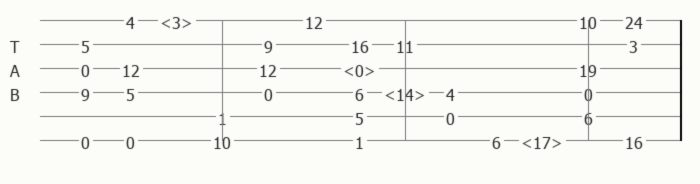0: (81, 132, 94, 148), (81, 60, 94, 76), (126, 132, 139, 148), (264, 84, 277, 100), (446, 108, 459, 124), (584, 84, 597, 100)
1: (218, 108, 231, 124), (355, 132, 368, 148)
10: (213, 132, 235, 148), (579, 12, 601, 28)
11: (396, 36, 418, 52)
12: (122, 60, 144, 76), (259, 60, 281, 76), (305, 12, 327, 28)
16: (351, 36, 373, 52), (625, 132, 647, 148)
19: (579, 60, 601, 76)
24: (625, 12, 647, 28)
3: (629, 36, 642, 52)
4: (126, 12, 139, 28), (446, 84, 459, 100)
5: (81, 36, 94, 52), (126, 84, 139, 100), (355, 108, 368, 124)
6: (355, 84, 368, 100), (492, 132, 505, 148), (584, 108, 597, 124)
9: (81, 84, 94, 100), (264, 36, 277, 52)
harmonic: (384, 84, 430, 100), (521, 132, 567, 148), (160, 12, 197, 28), (343, 60, 380, 76)
